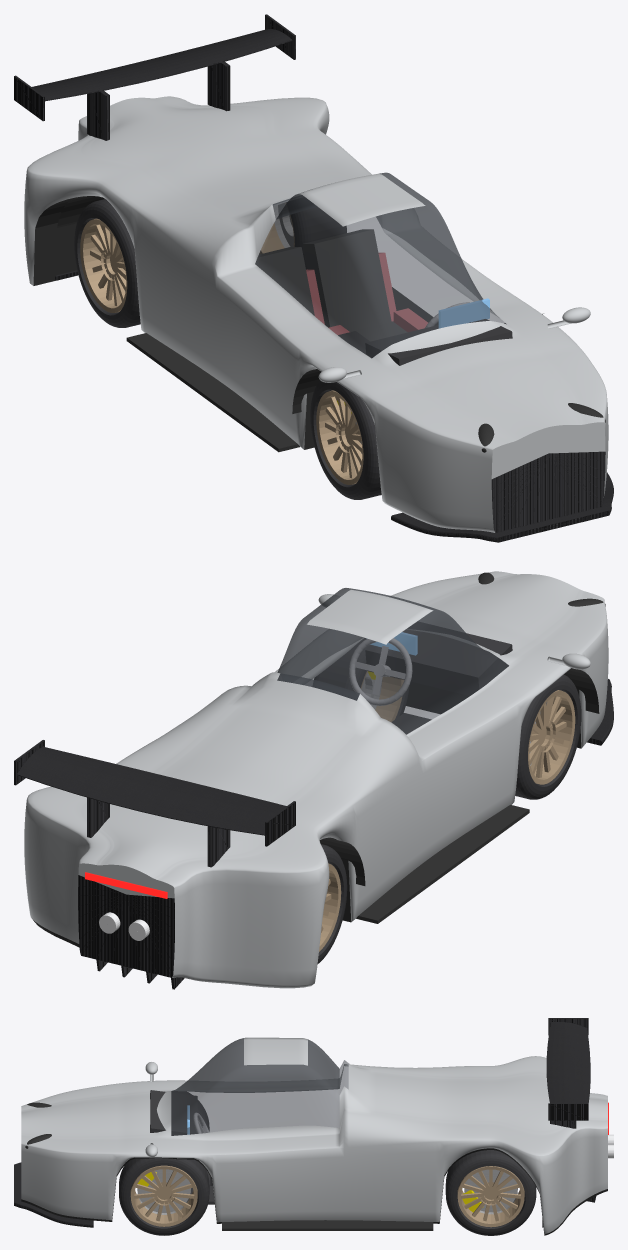
File: porsche-718-cayman-gt4-rs.glb
3 renders of one model, top to bottom at view 1: azimuth 30°, elevation 25°; view 2: azimuth 150°, elevation 25°; view 3: azimuth 270°, elevation 25°, orthographic. The views are drawn at different scales.
Parts seen in each view (by area): view 1: Body_PrimaryPaint, Glass_Windows, Carbon_Exterior, Interior_Seats, WheelWells, Rim_FR, Rim_RR, Tire_RR, Tire_FR, Underbody, Interior_Dashboard, Interior_SeatBolsters (+2 smaller); view 2: Body_PrimaryPaint, Carbon_Exterior, Glass_Windows, Interior_Dashboard, WheelWells, Rim_FR, Tire_FR, Interior_SteeringWheel, Underbody, Tire_FL, Rim_RR, Tire_RR (+3 smaller); view 3: Body_PrimaryPaint, Glass_Windows, Carbon_Exterior, Tire_RL, Tire_FL, Rim_FL, Rim_RL, WheelWells, Interior_Dashboard, Underbody, BrakeDisc_FL, BrakeDisc_RL.
Part boxes in pixels (x1=…): Body_PrimaryPaint: x1=24, y1=96, x2=608, y2=532; Glass_Windows: x1=255, y1=172, x2=505, y2=358; Carbon_Exterior: x1=14, y1=14, x2=613, y2=542; Interior_Seats: x1=255, y1=229, x2=407, y2=341; WheelWells: x1=57, y1=196, x2=543, y2=452; Rim_FR: x1=316, y1=390, x2=363, y2=484; Rim_RR: x1=80, y1=218, x2=127, y2=312; Tire_RR: x1=74, y1=199, x2=140, y2=327; Tire_FR: x1=310, y1=380, x2=381, y2=499; Underbody: x1=33, y1=196, x2=314, y2=449; Interior_Dashboard: x1=365, y1=319, x2=512, y2=365; Interior_SeatBolsters: x1=306, y1=252, x2=427, y2=334; Body_PrimaryPaint: x1=24, y1=571, x2=608, y2=988; Carbon_Exterior: x1=14, y1=679, x2=613, y2=989; Glass_Windows: x1=277, y1=588, x2=508, y2=734; Interior_Dashboard: x1=365, y1=621, x2=512, y2=695; WheelWells: x1=319, y1=668, x2=599, y2=923; Rim_FR: x1=528, y1=690, x2=575, y2=784; Tire_FR: x1=515, y1=674, x2=581, y2=799; Interior_SteeringWheel: x1=349, y1=638, x2=412, y2=705; Underbody: x1=32, y1=682, x2=581, y2=978; Tire_FL: x1=314, y1=638, x2=409, y2=719; Rim_RR: x1=319, y1=863, x2=341, y2=951; Tire_RR: x1=317, y1=844, x2=347, y2=963; Body_PrimaryPaint: x1=21, y1=1037, x2=607, y2=1234; Glass_Windows: x1=171, y1=1038, x2=348, y2=1135; Carbon_Exterior: x1=14, y1=1018, x2=596, y2=1227; Tire_RL: x1=445, y1=1150, x2=536, y2=1235; Tire_FL: x1=119, y1=1158, x2=209, y2=1235; Rim_FL: x1=130, y1=1165, x2=197, y2=1226; Rim_RL: x1=457, y1=1166, x2=524, y2=1227; WheelWells: x1=222, y1=1220, x2=433, y2=1230; Interior_Dashboard: x1=150, y1=1090, x2=197, y2=1135; Underbody: x1=21, y1=1148, x2=607, y2=1235; BrakeDisc_FL: x1=137, y1=1169, x2=190, y2=1214; BrakeDisc_RL: x1=464, y1=1169, x2=517, y2=1214.
Size of the model in its own units: 1.83 by 1.26 by 4.56.
16 materials, 2 textured.
